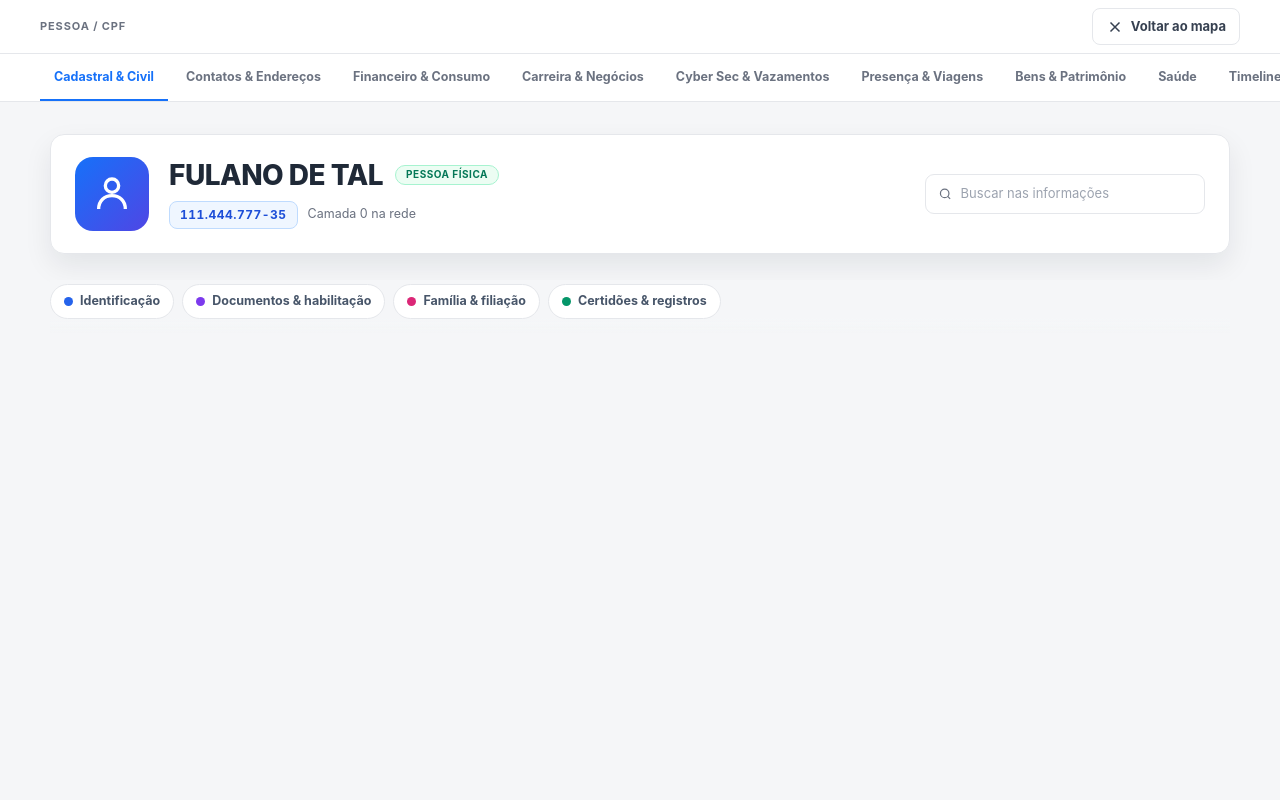
Test: EntityDetail — aba "Financeiro & Consumo" (cockpit + cartões) › cockpit acusa o sinal de risco quando há cheque sem fundo
Click the button "Financeiro & Consumo": (422, 77) x1=339 y1=54 x2=504 y2=101
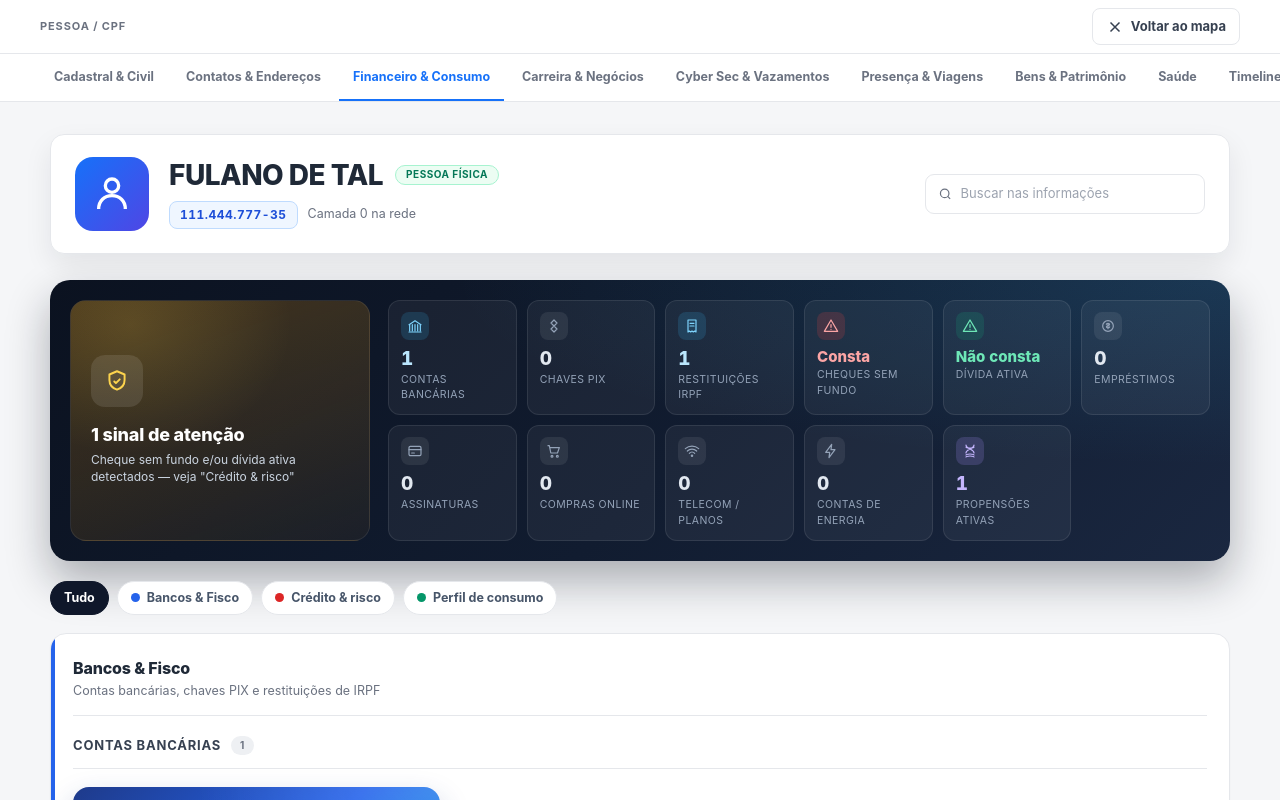
Now the text "1 sinal de atenção" is shown, box x1=91 y1=424 x2=244 y2=445
Now the text "Consta" is shown, box x1=817 y1=347 x2=870 y2=366
